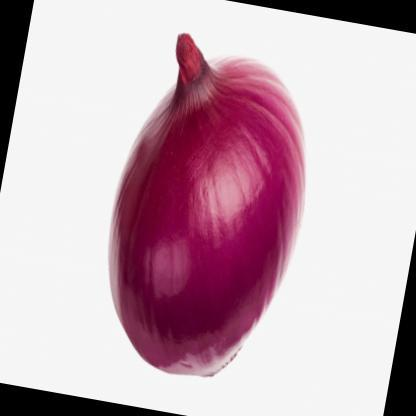onion: (70, 12, 341, 409)
